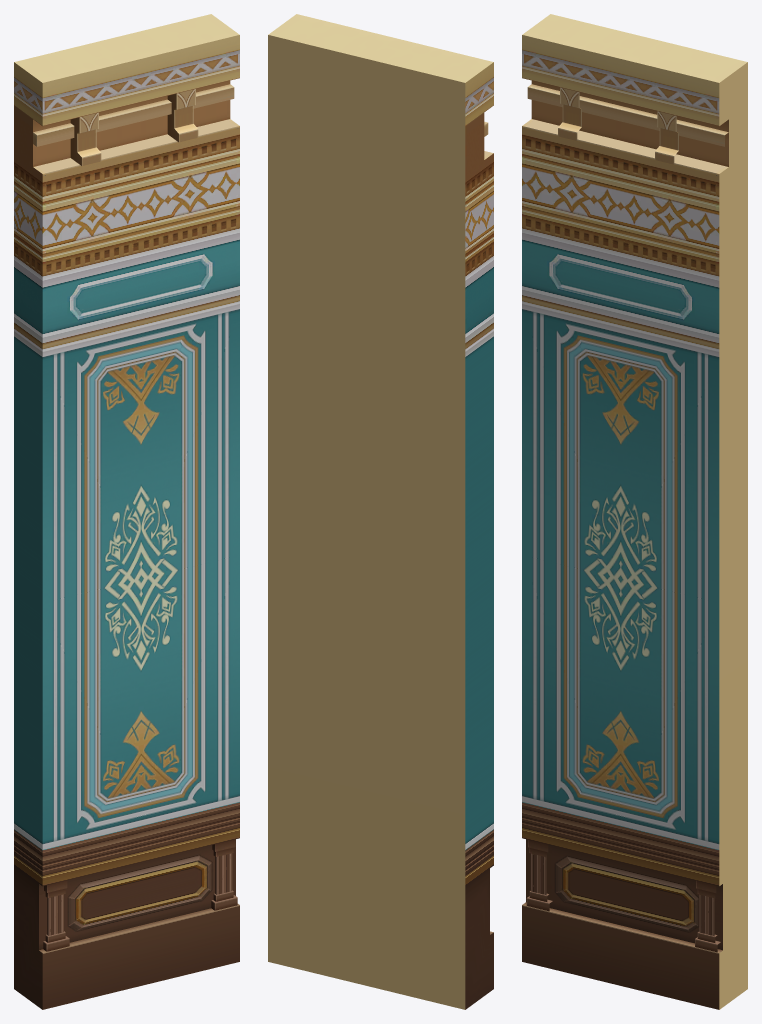
Rendered from my_trinityclassroom_01_wall_left.glb.
3 renders of one model, left to right at view 1: azimuth 30°, elevation 25°; view 2: azimuth 150°, elevation 25°; view 3: azimuth 330°, elevation 25°, orthographic.
Visible parts, largest first — view 1: my_trinityclassroom_01_wall_left; view 2: my_trinityclassroom_01_wall_left; view 3: my_trinityclassroom_01_wall_left.
Part boxes in pixels (x1=…): my_trinityclassroom_01_wall_left: x1=14, y1=14, x2=239, y2=1009; my_trinityclassroom_01_wall_left: x1=268, y1=14, x2=493, y2=1009; my_trinityclassroom_01_wall_left: x1=522, y1=14, x2=747, y2=1009.
Bounding box in the file's own units: 0.012 × 0.0539 × 0.00319.
Materials: 1 (1 with a texture image).
